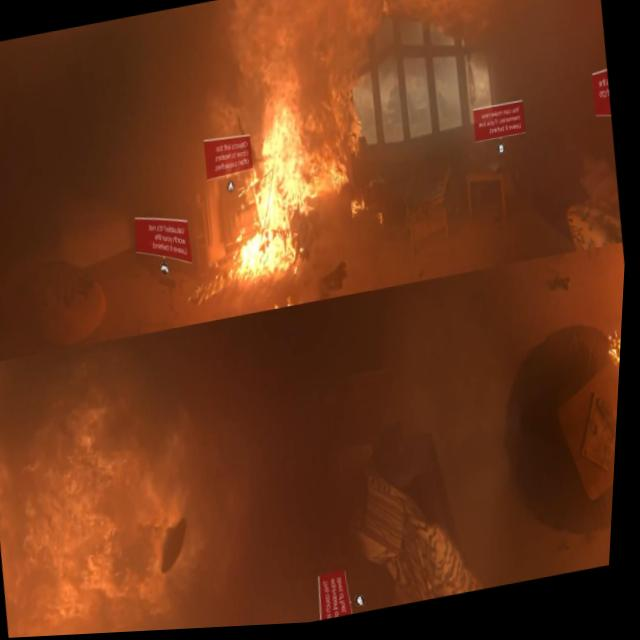fire: (0, 382, 195, 640), (196, 68, 391, 301)
